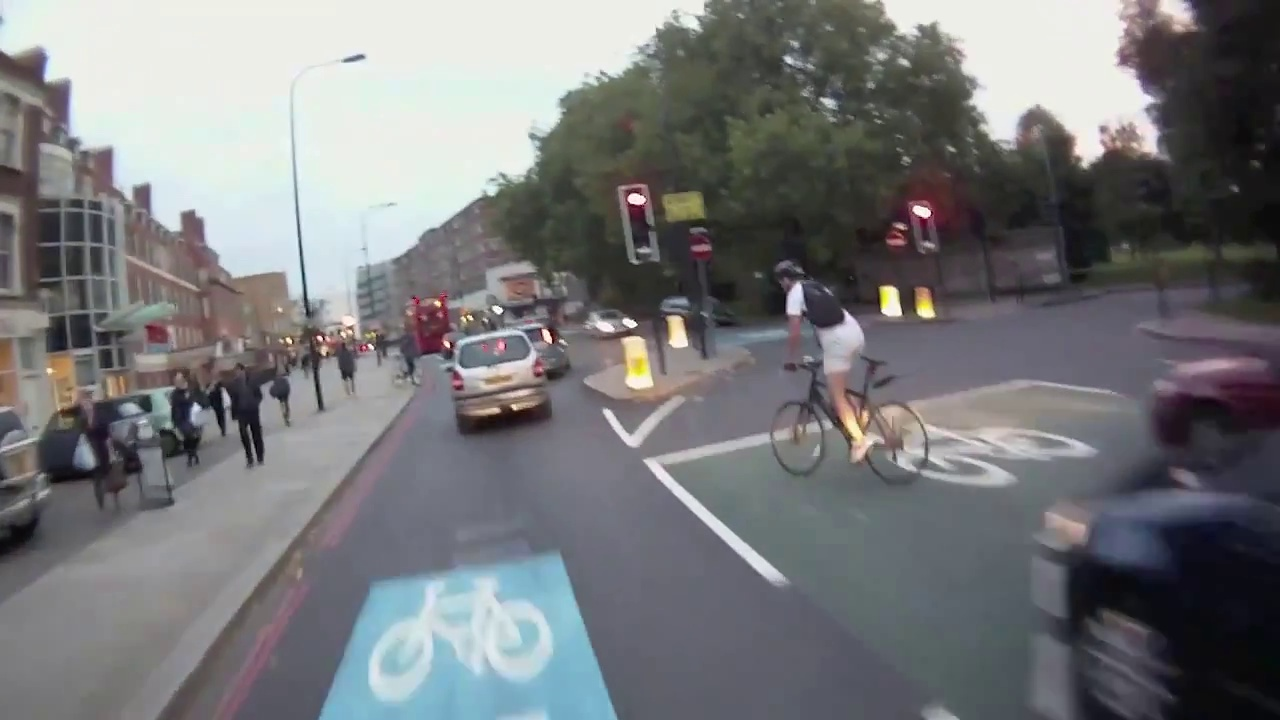cyclist_side: (753, 250, 937, 489)
